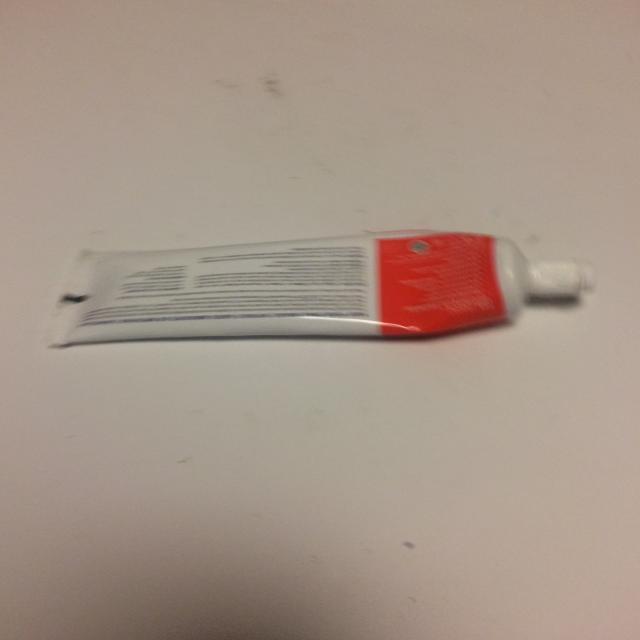trash: (46, 229, 595, 348)
